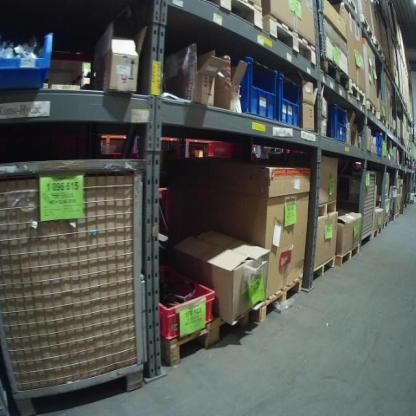pallet: (161, 304, 251, 367), (253, 272, 303, 327), (270, 14, 324, 64), (182, 1, 268, 27), (311, 255, 338, 285), (322, 59, 347, 90), (337, 240, 359, 269), (314, 199, 338, 221), (349, 79, 367, 107), (359, 18, 377, 46), (364, 98, 379, 122), (337, 0, 358, 17), (371, 224, 383, 240), (380, 113, 389, 129), (381, 216, 390, 230), (393, 211, 399, 221)
small_load_carrier: (154, 260, 219, 342), (219, 56, 279, 124), (279, 73, 301, 131), (326, 100, 348, 143), (373, 133, 384, 155)
stillage: (2, 154, 151, 416), (346, 169, 382, 248)
